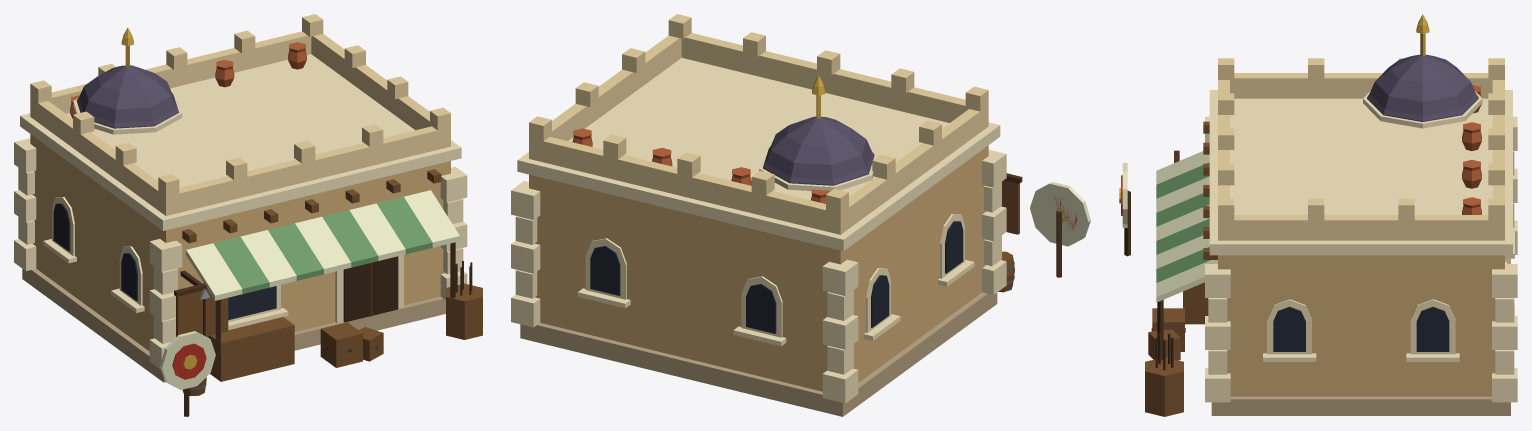
The model's file is shop_ammo.fbx.
3 renders of one model, left to right at view 1: azimuth 30°, elevation 25°; view 2: azimuth 150°, elevation 25°; view 3: azimuth 270°, elevation 25°, orthographic. The views are drawn at different scales.
Parts seen in each view (by area): view 1: shop_ammo; view 2: shop_ammo; view 3: shop_ammo.
Part boxes in pixels (box(x1,y1,x2,y2)): shop_ammo: box(14, 14, 482, 416); shop_ammo: box(511, 14, 1090, 416); shop_ammo: box(1119, 14, 1517, 416).
Bounding box in the file's own units: 10.26 × 7.61 × 9.71.
Materials: 1 (1 with a texture image).
